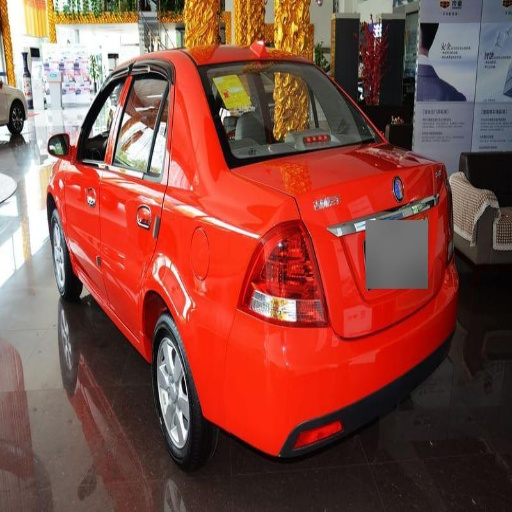back_bumper: (199, 263, 495, 505)
back_glass: (225, 73, 369, 162)
back_left_door: (102, 67, 168, 309)
tailgate: (271, 136, 441, 338)
trunk: (153, 208, 209, 314)
